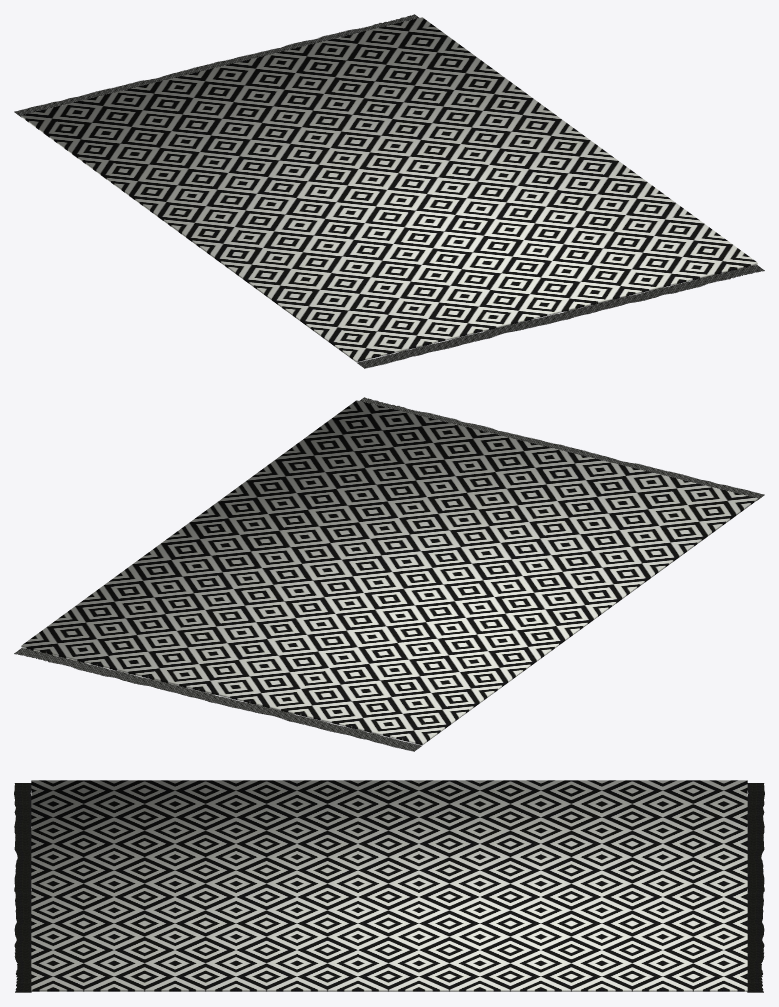
File: Rug.glb
3 views of the same model, one above another, from view 1: azimuth 30°, elevation 25°; view 2: azimuth 150°, elevation 25°; view 3: azimuth 270°, elevation 25° (orthographic). The views are drawn at different scales.
Visible parts, largest first — view 1: BP_Rug; view 2: BP_Rug; view 3: BP_Rug.
Part boxes in pixels (x1,y1,x2,y2): BP_Rug: (14,14,764,368); BP_Rug: (14,397,764,751); BP_Rug: (14,780,764,992).
Bounding box in the file's own units: 2.35 × 0.0171 × 3.56.
1 material, 1 textured.
